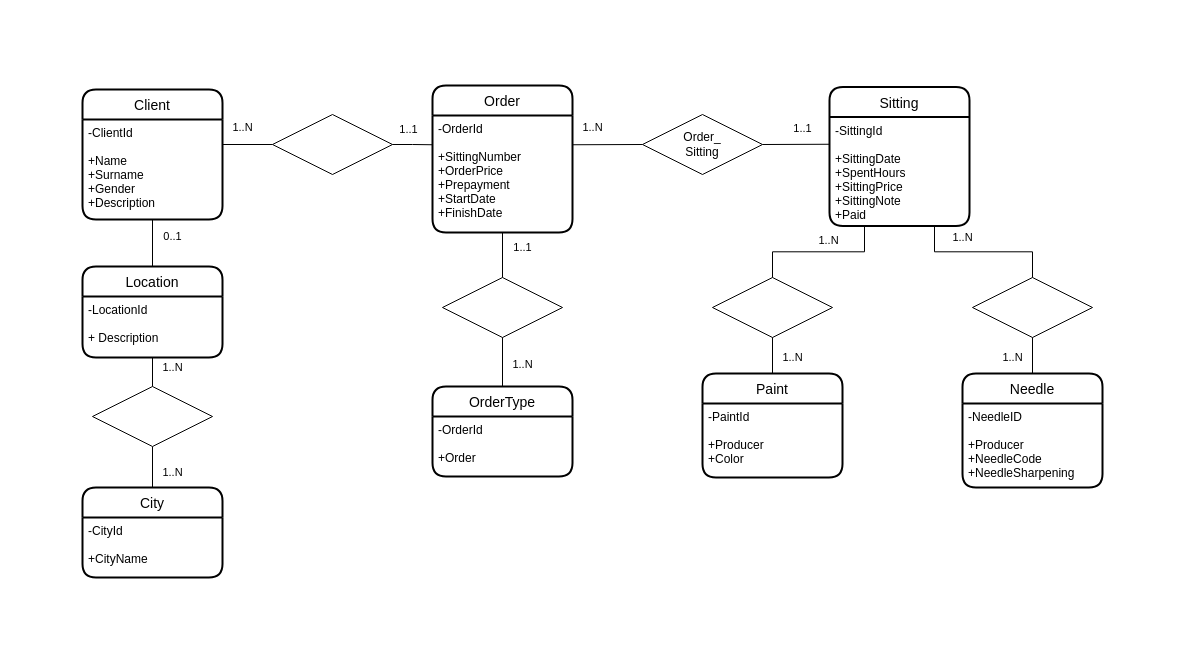
This 1193x664 diagram has some shape labels left out. The centre of each missing label's shape, as x and y in pixels:
Client_ Order: [332,144]
Location_ City: [152,416]
Order_ OrderType: [502,307]
Sitting_ Needle: [1032,307]
Sitting_ Paint: [772,307]
